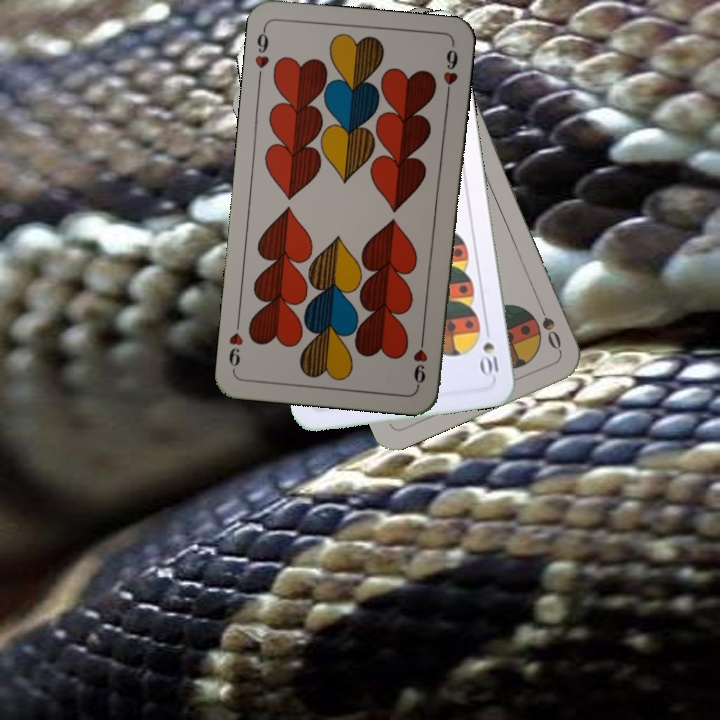H9: (409, 330, 430, 389), (250, 24, 272, 70)
S10: (478, 321, 501, 380)
SO: (533, 297, 564, 354)
